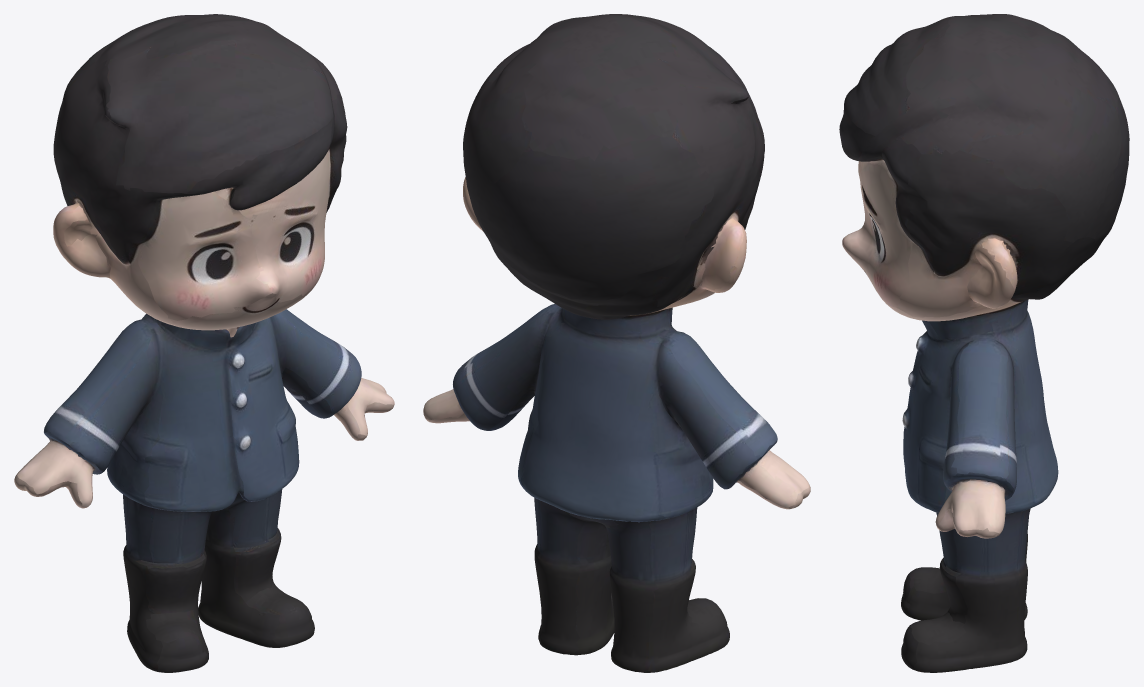
Rendered from general.glb.
3 views of the same model, side by side, from view 1: azimuth 30°, elevation 25°; view 2: azimuth 150°, elevation 25°; view 3: azimuth 270°, elevation 25° (orthographic). The views are drawn at different scales.
Parts seen in each view (by area): view 1: general_s12; view 2: general_s12; view 3: general_s12.
Part boxes in pixels (x1,y1,x2,y2): general_s12: (14, 14, 394, 672); general_s12: (423, 14, 810, 672); general_s12: (839, 14, 1129, 672).
Bounding box in the file's own units: 0.6402 × 1 × 0.4345.
1 material, 1 textured.
